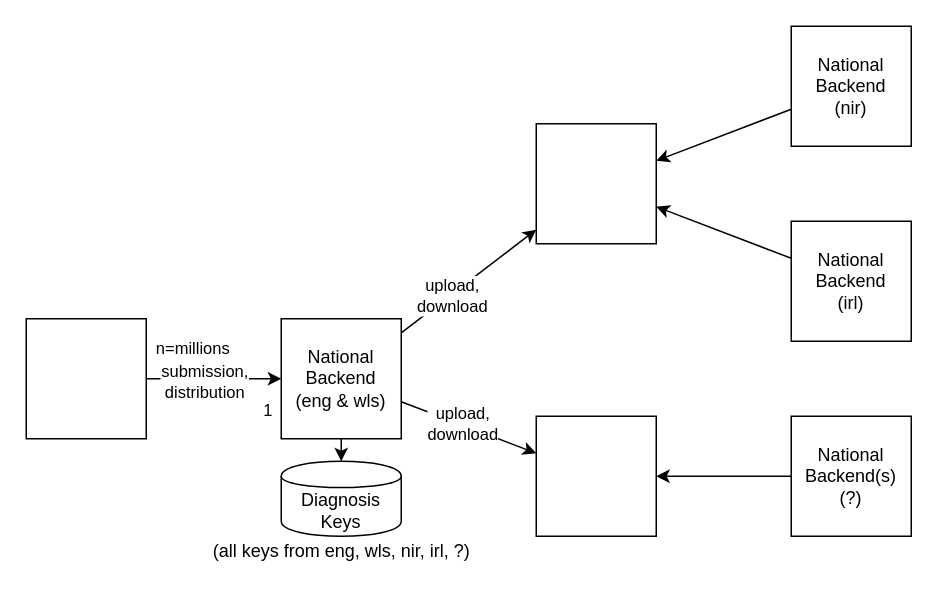
Image size: 938x593. Some labels were removed from this diagram. Here are the shapes that lost their labels. From the top down, the box of each, then its label:
(535, 122, 656, 244): Federation Server (irl)
(25, 317, 146, 439): Mobile App (eng & wls)
(535, 415, 656, 536): Federation Server(s) (?)
